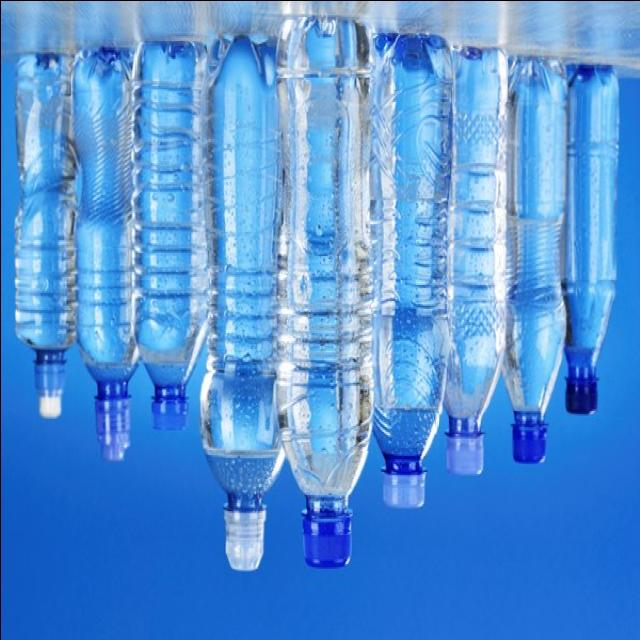bottom: (275, 17, 370, 76), (373, 34, 452, 83), (208, 36, 273, 87), (135, 41, 205, 84), (452, 47, 506, 100), (73, 48, 132, 91), (508, 57, 565, 98), (15, 53, 69, 95), (566, 66, 617, 103), (393, 70, 417, 89)
neck: (201, 449, 283, 576), (286, 450, 367, 576), (77, 342, 136, 470), (374, 410, 438, 521), (137, 331, 207, 429), (16, 306, 73, 421), (501, 362, 558, 472), (443, 368, 498, 478), (565, 322, 605, 426)
